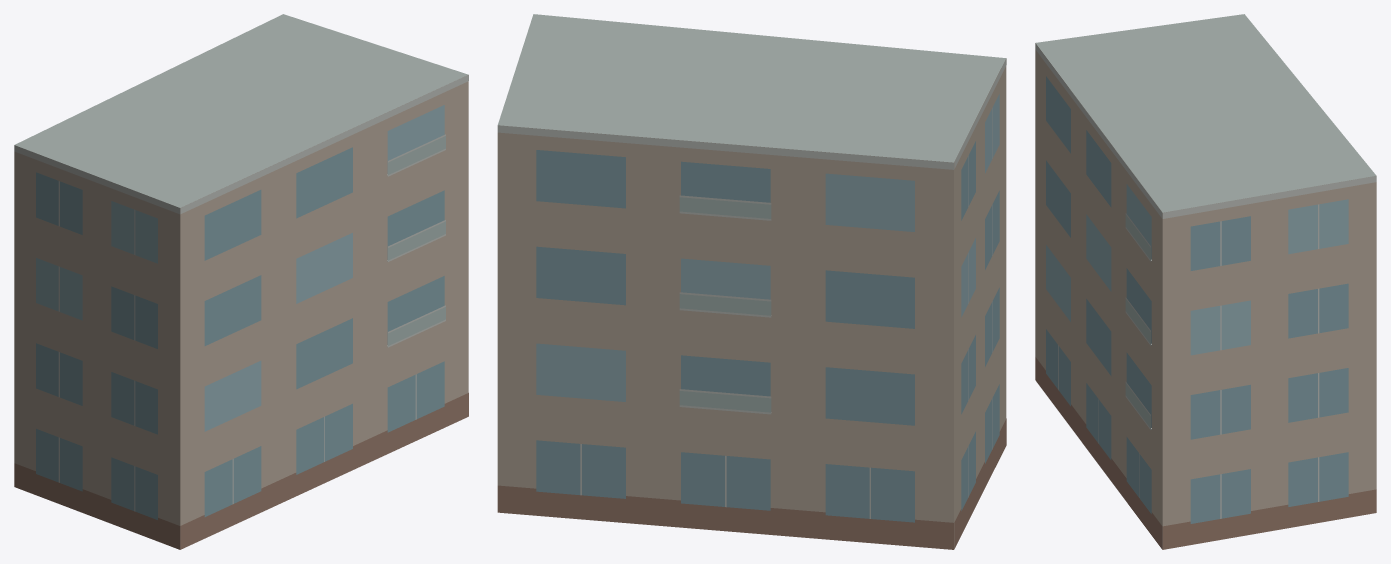
Rendered from survey-upis-32747011.glb.
3 renders of one model, left to right at view 1: azimuth 30°, elevation 25°; view 2: azimuth 150°, elevation 25°; view 3: azimuth 270°, elevation 25°, orthographic. The views are drawn at different scales.
Visible parts, largest first — view 1: survey-upis-32747011.tmp; view 2: survey-upis-32747011.tmp; view 3: survey-upis-32747011.tmp.
Part boxes in pixels (box(x1,y1,x2,y2)): survey-upis-32747011.tmp: box(14, 14, 468, 549); survey-upis-32747011.tmp: box(497, 14, 1006, 549); survey-upis-32747011.tmp: box(1035, 14, 1376, 549).
Bounding box in the file's own units: 16.31 × 12.9 × 11.84.
